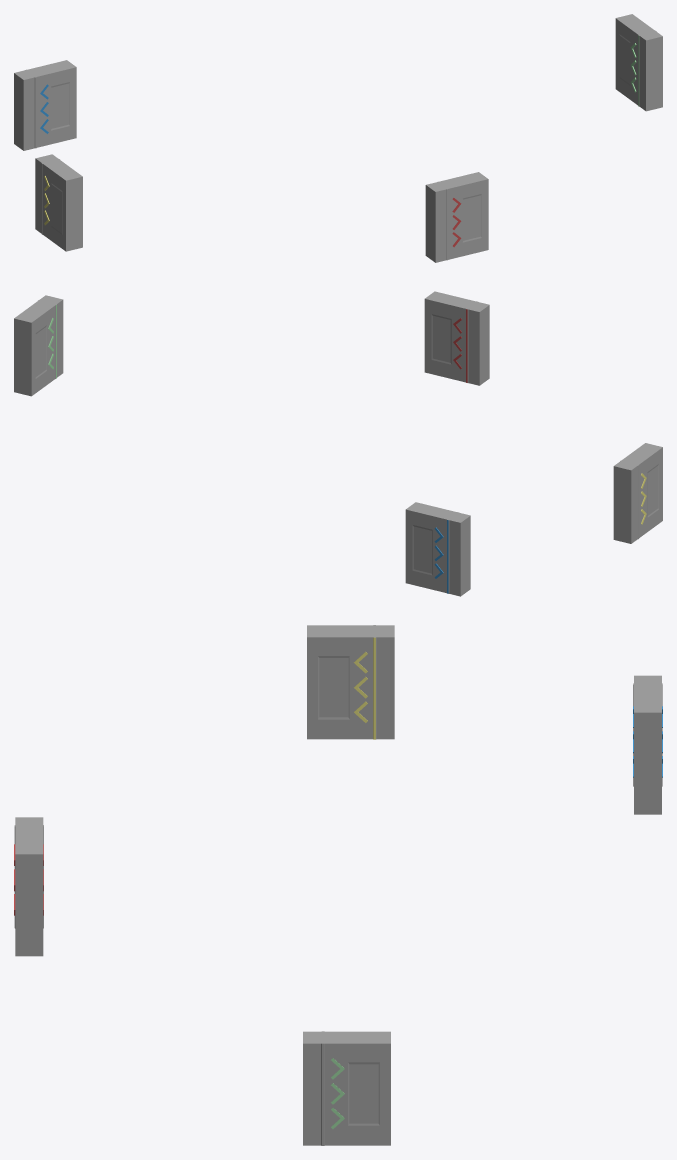
Rendered from HUB - Doors.fbx.
3 renders of one model, top to bottom at view 1: azimuth 30°, elevation 25°; view 2: azimuth 150°, elevation 25°; view 3: azimuth 270°, elevation 25°, orthographic. The views are drawn at different scales.
Parts seen in each view (by area): view 1: polySurface796, pCube867, pCube856, polySurface805; view 2: polySurface796, pCube867, polySurface805, pCube856; view 3: pCube856, polySurface805, polySurface796, pCube867.
Part boxes in pixels (x1,y1,x2,y2): polySurface796: (425,172,488,262); pCube867: (14,60,76,150); pCube856: (615,14,662,111); polySurface805: (35,154,82,251); polySurface796: (424,291,489,385); pCube867: (405,502,470,596); polySurface805: (613,443,662,543); pCube856: (14,295,63,396); pCube856: (303,1031,390,1145); polySurface805: (307,625,394,739); polySurface796: (14,817,43,956); pCube867: (633,675,662,814).
Bounding box in the file's own units: 134 × 15.76 × 87.7.
